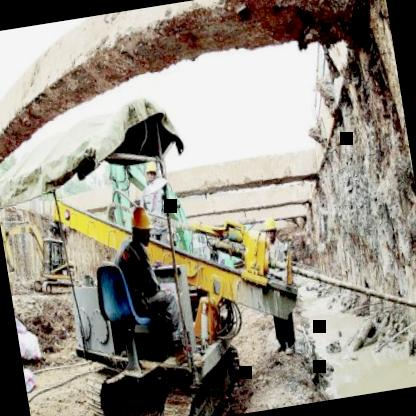helmet: (126, 197, 160, 251), (258, 211, 280, 243), (143, 156, 162, 187)
